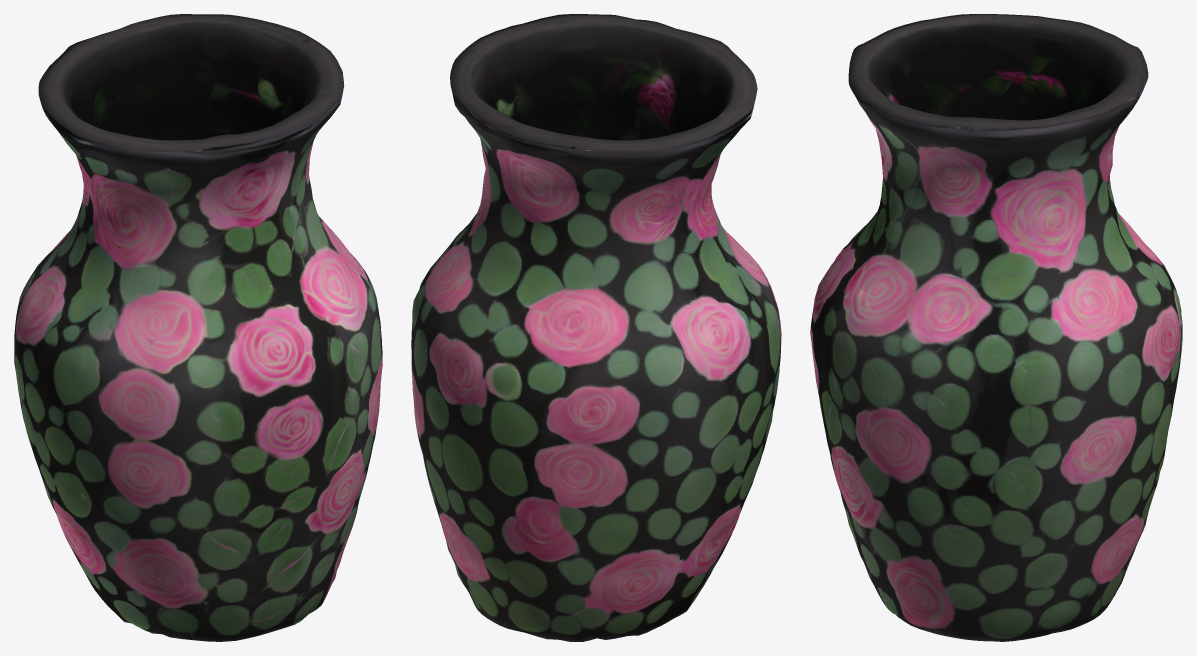
File: Rosy_Dream_Vase_0414174133_texture.glb
3 renders of one model, left to right at view 1: azimuth 30°, elevation 25°; view 2: azimuth 150°, elevation 25°; view 3: azimuth 270°, elevation 25°, orthographic.
Bounding box in the file's own units: 1.28 × 2 × 1.29.
Materials: 1 (1 with a texture image).
